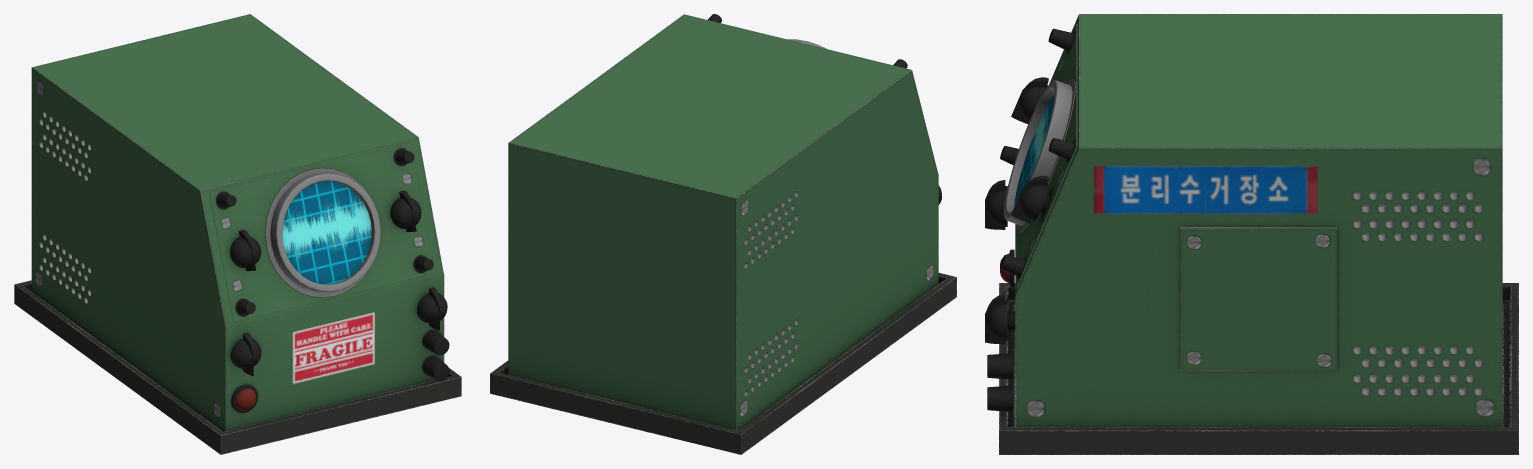
The model's file is ship_scaner_core.glb.
3 views of the same model, side by side, from view 1: azimuth 30°, elevation 25°; view 2: azimuth 150°, elevation 25°; view 3: azimuth 270°, elevation 25° (orthographic). The views are drawn at different scales.
Visible parts, largest first — view 1: radar; view 2: radar; view 3: radar.
Part boxes in pixels (x1=…): radar: x1=14, y1=14, x2=461, y2=454; radar: x1=490, y1=14, x2=956, y2=454; radar: x1=985, y1=14, x2=1518, y2=454.
Size of the model in its own units: 0.5004 by 0.4736 by 0.7638.
Materials: 1 (1 with a texture image).
